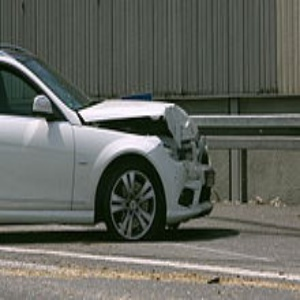bonnet: (96, 98, 202, 131)
